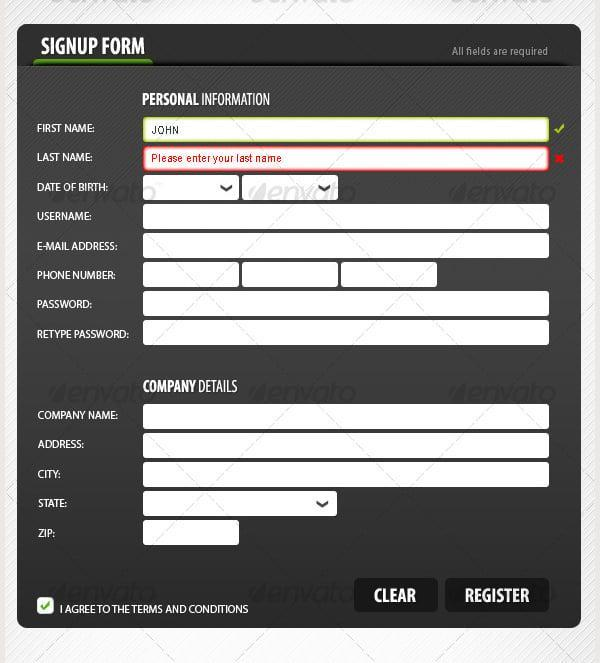button: (444, 577, 553, 617), (353, 575, 439, 615)
checkbox: (37, 598, 57, 619)
dropdown: (143, 492, 341, 519), (241, 174, 341, 202), (143, 176, 242, 200)
input: (142, 203, 553, 233), (143, 403, 551, 433), (143, 290, 553, 319), (143, 117, 552, 145), (142, 146, 552, 173), (142, 320, 551, 347), (144, 462, 549, 489), (142, 233, 553, 259), (144, 432, 550, 458), (342, 260, 439, 291), (242, 259, 340, 289), (143, 519, 243, 548), (143, 261, 241, 288)
label: (37, 33, 152, 62), (58, 601, 250, 618), (143, 91, 272, 108), (141, 379, 242, 394), (37, 408, 122, 422), (38, 269, 118, 282), (37, 330, 131, 340), (36, 241, 120, 251), (37, 183, 110, 193), (37, 123, 97, 135), (37, 152, 95, 163), (38, 212, 94, 223), (38, 299, 94, 310), (38, 439, 87, 451), (37, 497, 71, 508), (37, 527, 58, 540), (37, 470, 64, 480)
